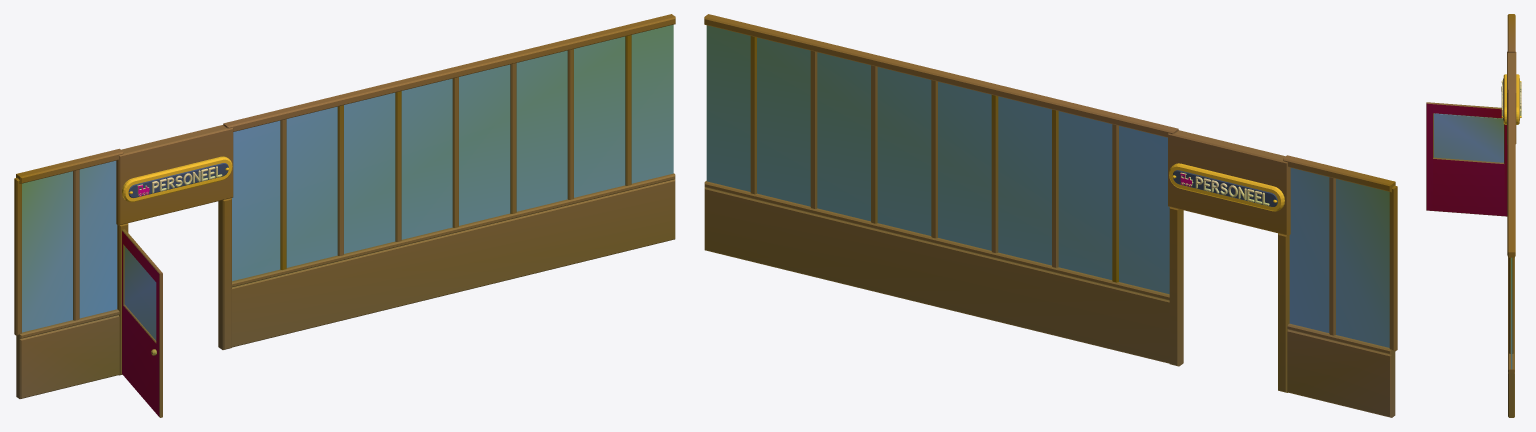
File: GS_Partition_Office.glb
3 views of the same model, side by side, from view 1: azimuth 30°, elevation 25°; view 2: azimuth 150°, elevation 25°; view 3: azimuth 270°, elevation 25° (orthographic). The views are drawn at different scales.
Visible parts, largest first — view 1: GS_Partition_Office, Sign_Room_Text; view 2: GS_Partition_Office, Sign_Room_Back_Text; view 3: GS_Partition_Office.
Boxes of the visible parts, x1=… form: GS_Partition_Office: x1=14, y1=14, x2=675, y2=417; Sign_Room_Text: x1=152, y1=166, x2=222, y2=193; GS_Partition_Office: x1=704, y1=14, x2=1397, y2=417; Sign_Room_Back_Text: x1=1195, y1=176, x2=1269, y2=205; GS_Partition_Office: x1=1426, y1=14, x2=1521, y2=417.
Bounding box in the file's own units: 11.45 × 3.7 × 1.93.
